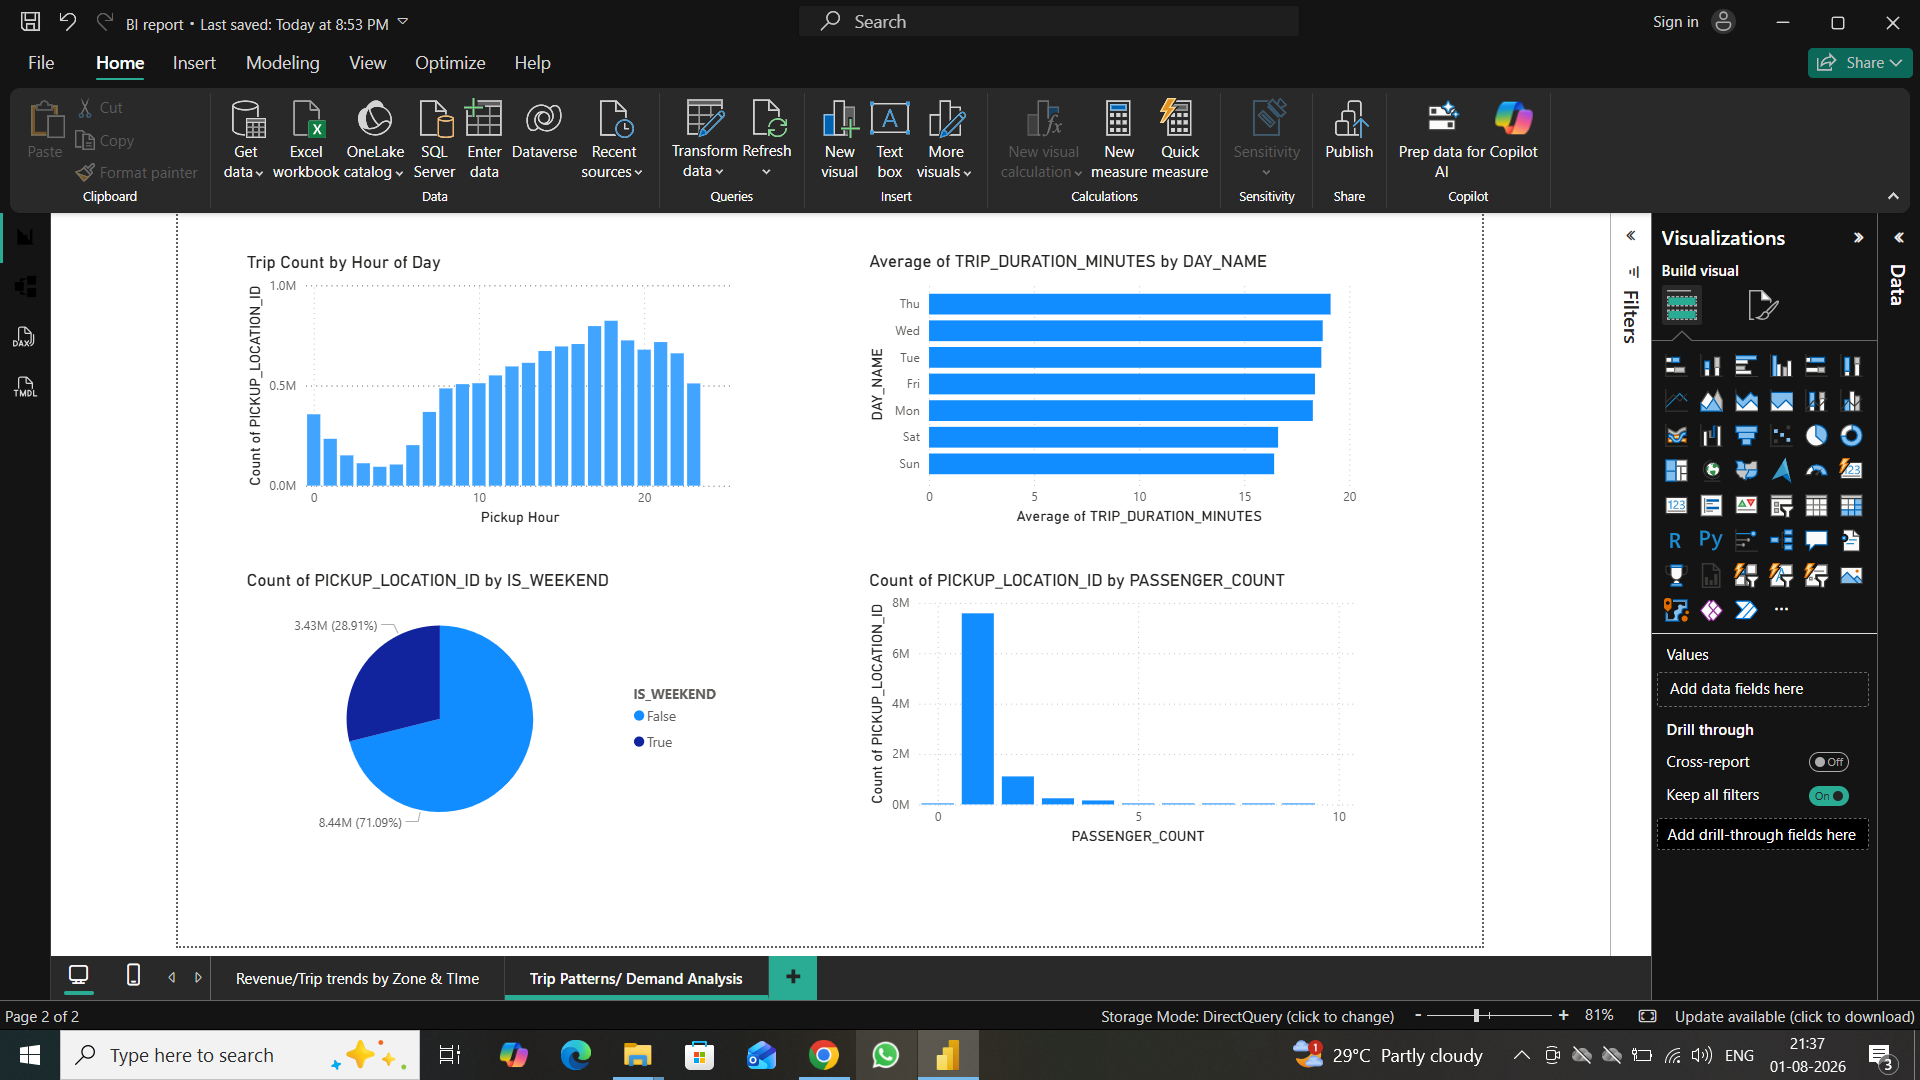

The page's visual inventory and layout, read from the dashboard file:
{"tool":"powerbi","page":{"name":"Trip Patterns/ Demand Analysis","canvas":[1280,720],"ordinal":1},"visuals":[{"type":"clusteredColumnChart","title":"Trip Count by Hour of Day","fields":{"Category":["FACT_TRIPS.Pickup Hour"],"Y":["CountNonNull(FACT_TRIPS.PICKUP_LOCATION_ID)"]},"box":[62.6,38,488.3,273.6],"z":0},{"type":"pieChart","fields":{"Category":["DIM_DATE.IS_WEEKEND"],"Y":["CountNonNull(FACT_TRIPS.PICKUP_LOCATION_ID)"]},"box":[62.6,349.7,488.3,274.8],"z":1000},{"type":"clusteredBarChart","fields":{"Y":["Avg(FACT_TRIPS.TRIP_DURATION_MINUTES)"],"Category":["DIM_DATE.DAY_NAME"]},"box":[673.6,36.8,488.3,273.6],"z":2000},{"type":"clusteredColumnChart","fields":{"Category":["FACT_TRIPS.PASSENGER_COUNT"],"Y":["CountNonNull(FACT_TRIPS.PICKUP_LOCATION_ID)"]},"box":[673.6,349.7,488.3,274.8],"z":3000}]}

Visuals, with their boxes on the page's 1280x720 design canvas (x1, y1, x2, y2). These are canvas units, not pixel positions in the 1920x1080 screenshot, which may show the page scaled, cropped or inside an application window:
"Trip Count by Hour of Day" clusteredColumnChart: [63, 38, 551, 312]
pieChart - DIM_DATE.IS_WEEKEND x CountNonNull(FACT_TRIPS.PICKUP_LOCATION_ID): [63, 350, 551, 624]
clusteredBarChart - Avg(FACT_TRIPS.TRIP_DURATION_MINUTES) x DIM_DATE.DAY_NAME: [674, 37, 1162, 310]
clusteredColumnChart - FACT_TRIPS.PASSENGER_COUNT x CountNonNull(FACT_TRIPS.PICKUP_LOCATION_ID): [674, 350, 1162, 624]
